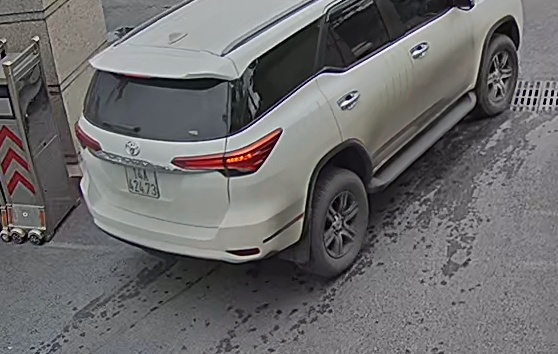vehicle plate: (120, 160, 165, 200)
